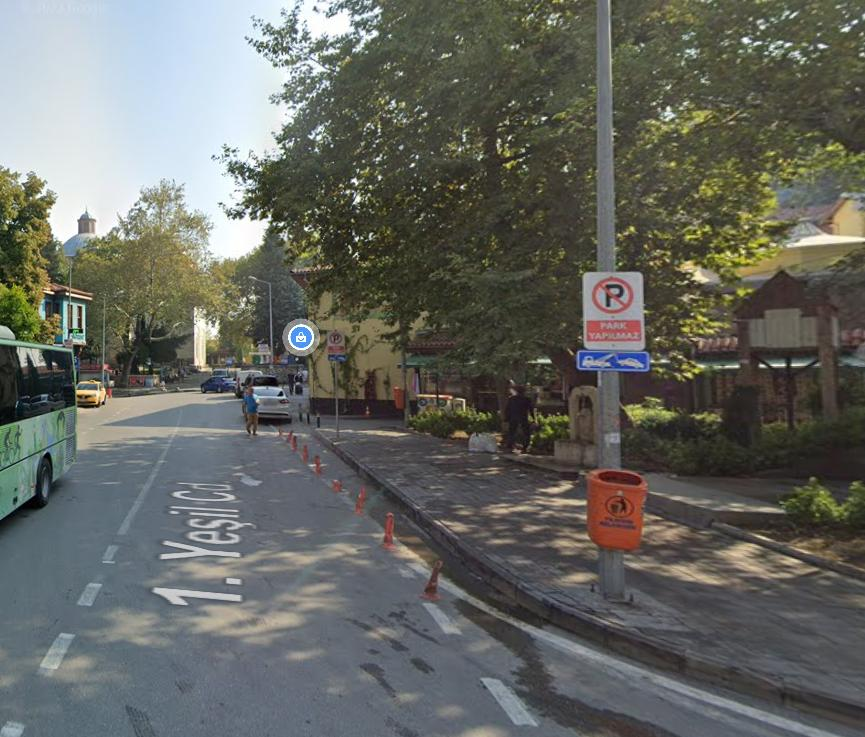park: (586, 250, 643, 349)
